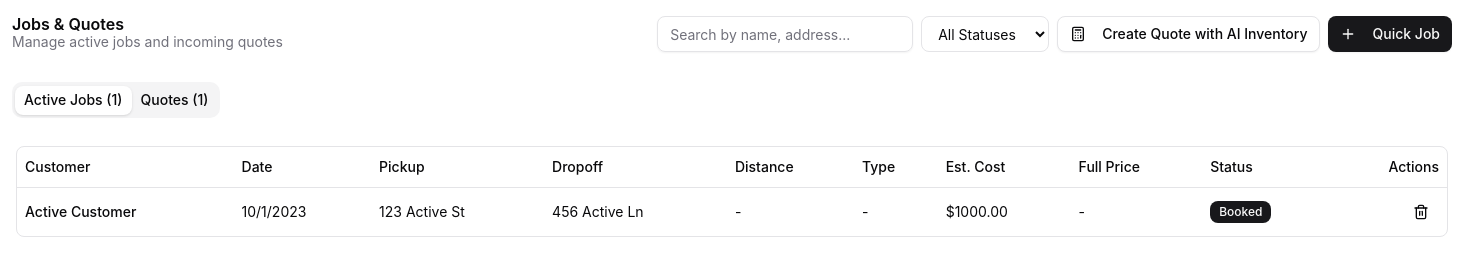
Scenario: JobsView Tabs & Actions › switches to Quotes tab and shows quotes
Click Quotes tab
Click the tab "Quotes (1)" at (174, 100), box left=132, top=86, right=217, bottom=114
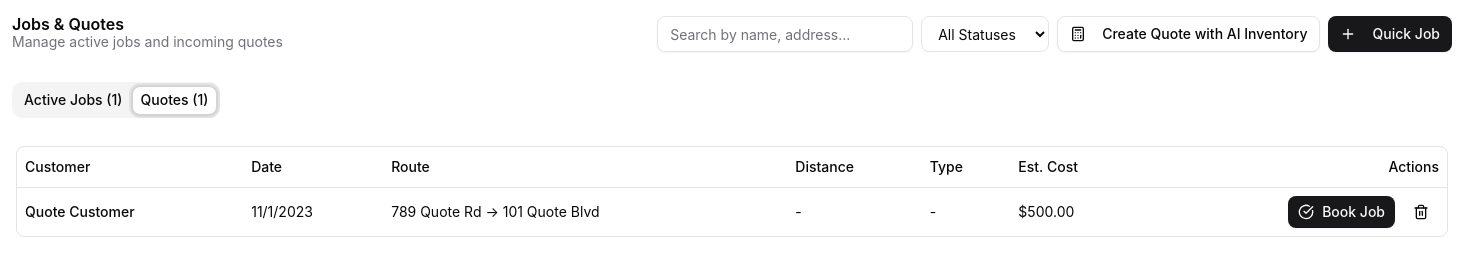
expect the text "Active Customer" is gone: met
expect the text "Quote Customer" is shown: met, box left=17, top=187, right=243, bottom=236
